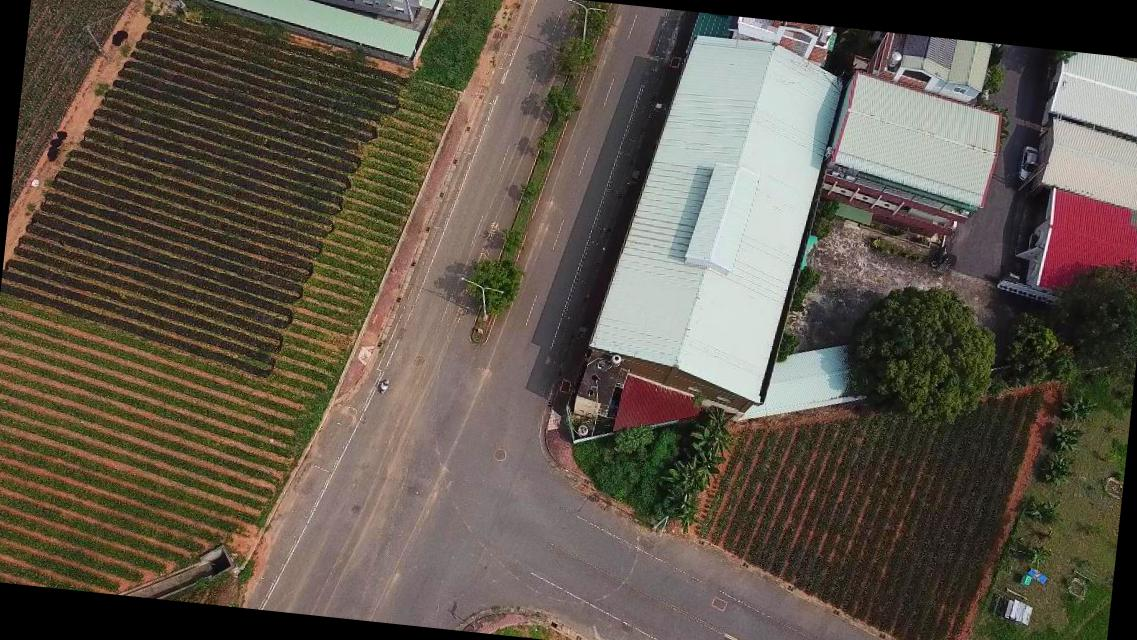vehicle: (1018, 144, 1040, 186)
